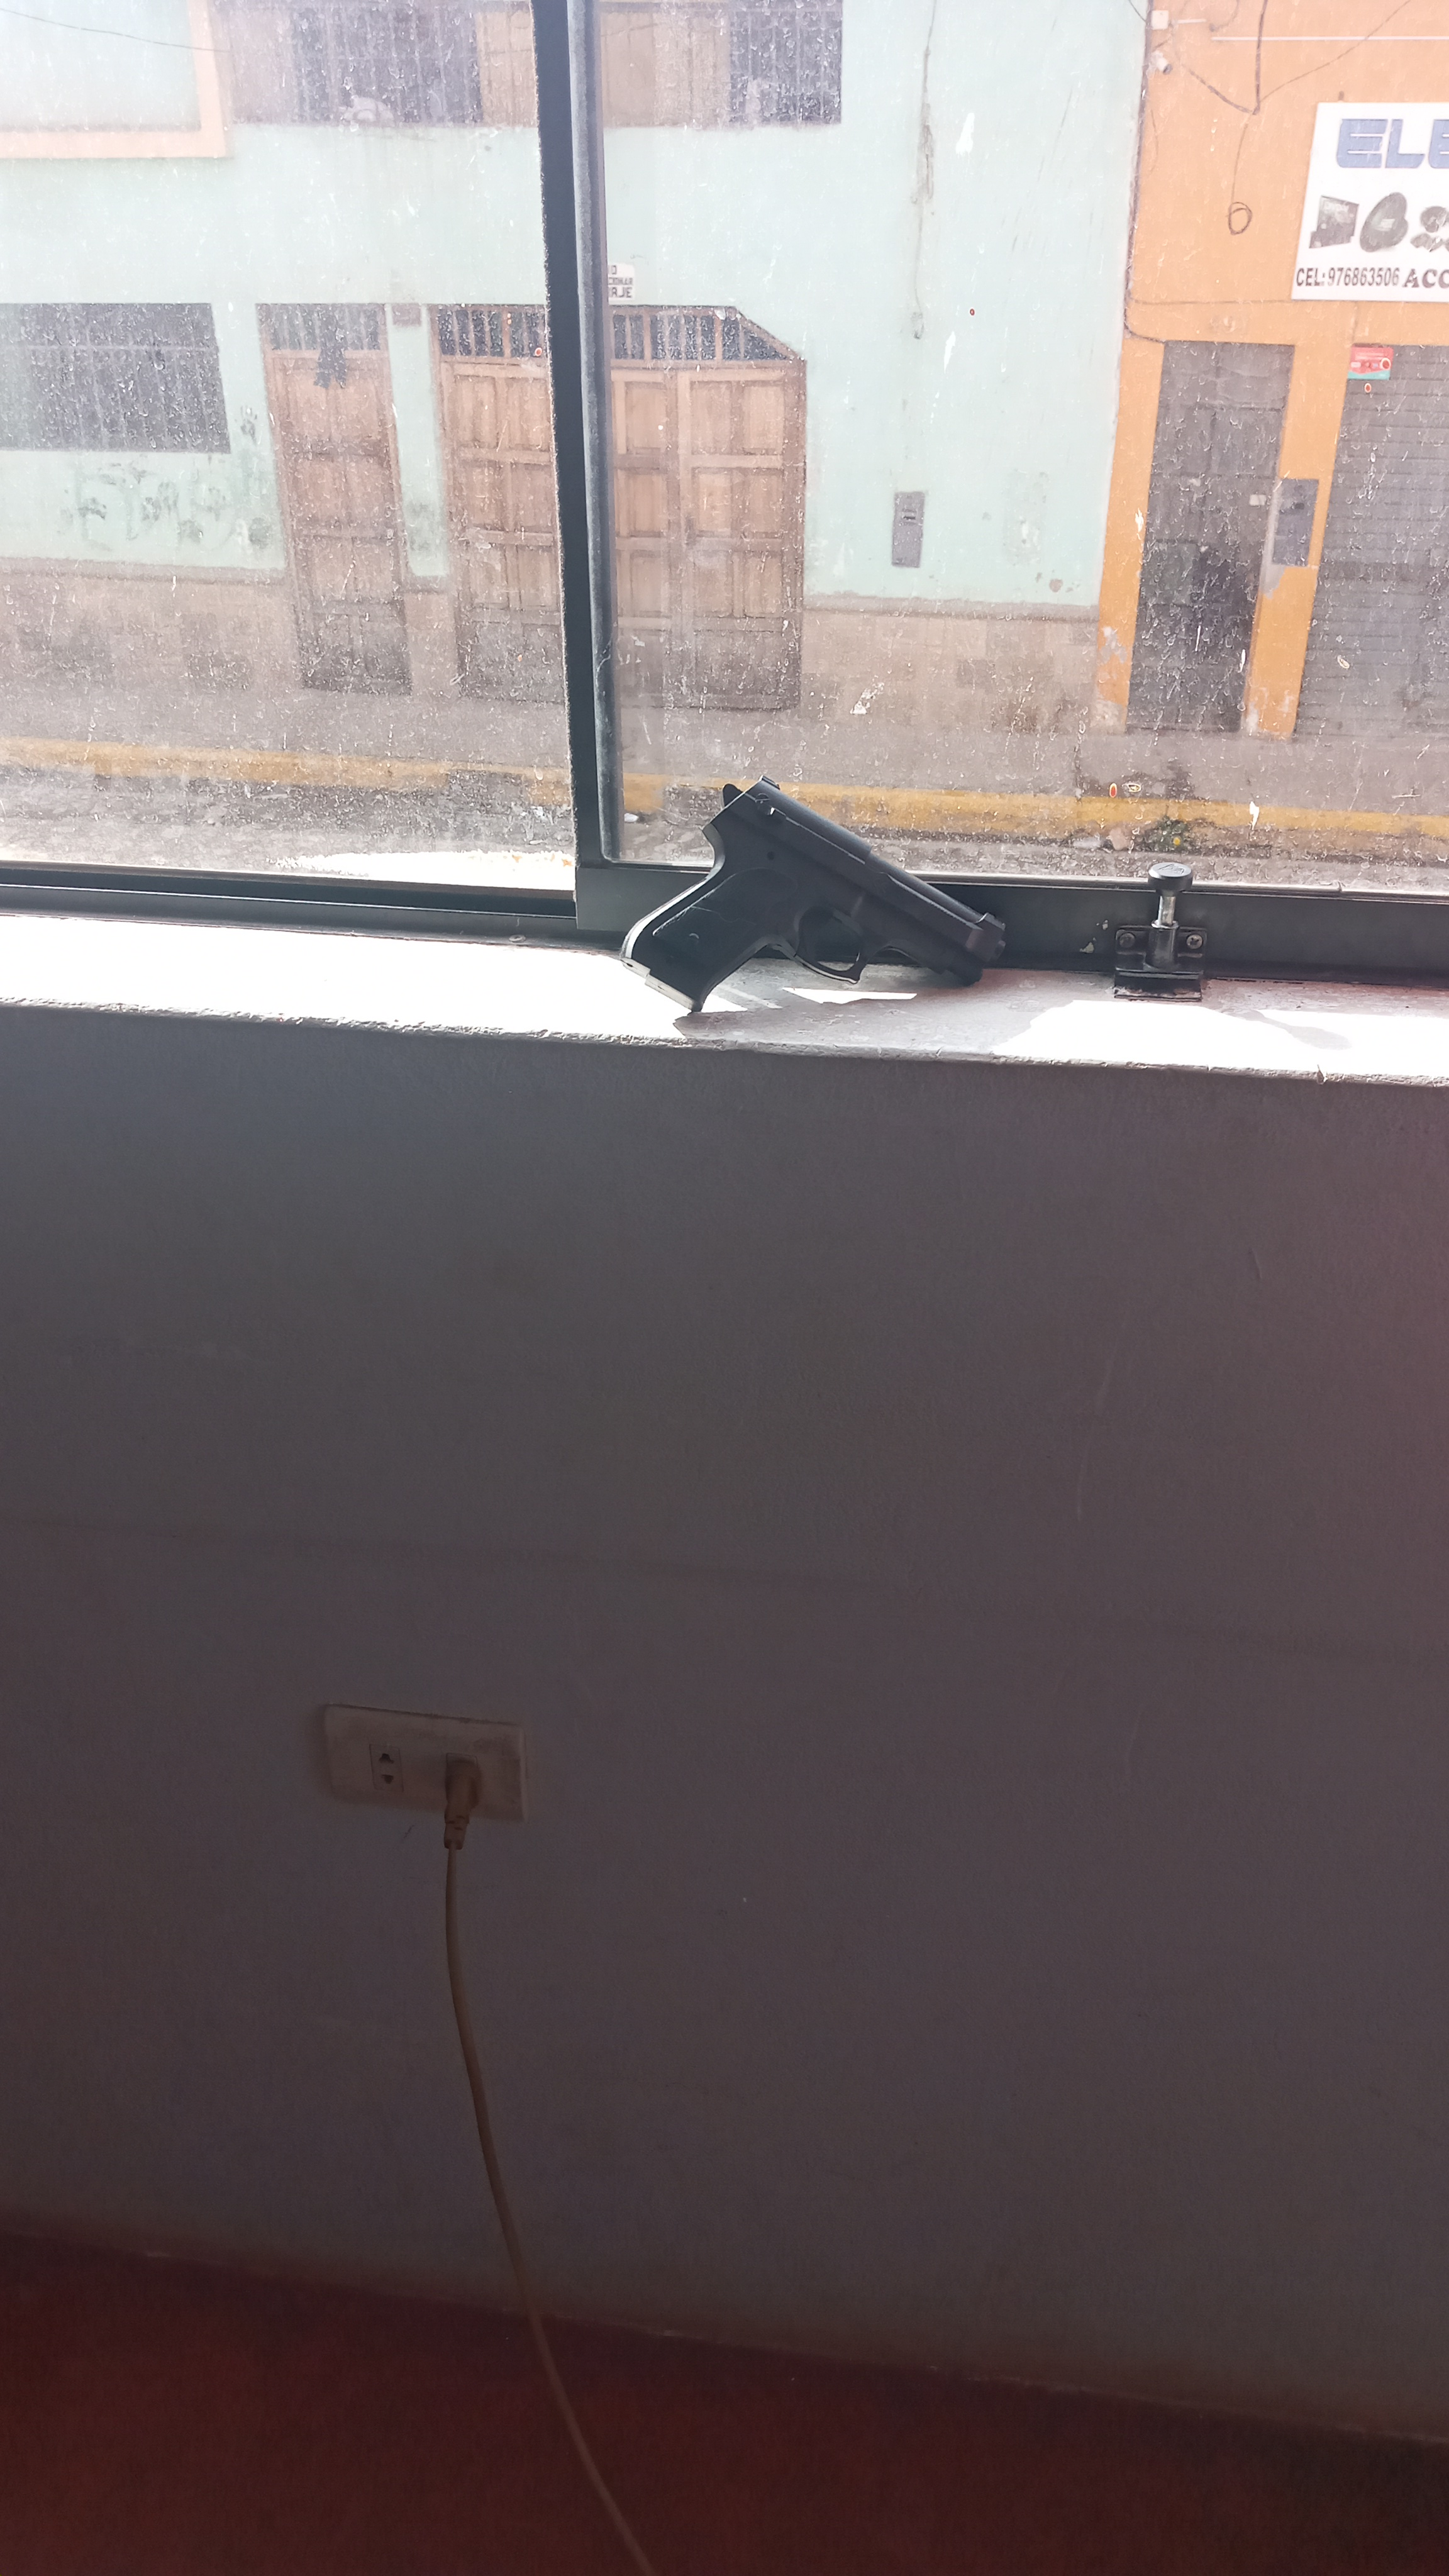Arma: (674, 801, 994, 989)
